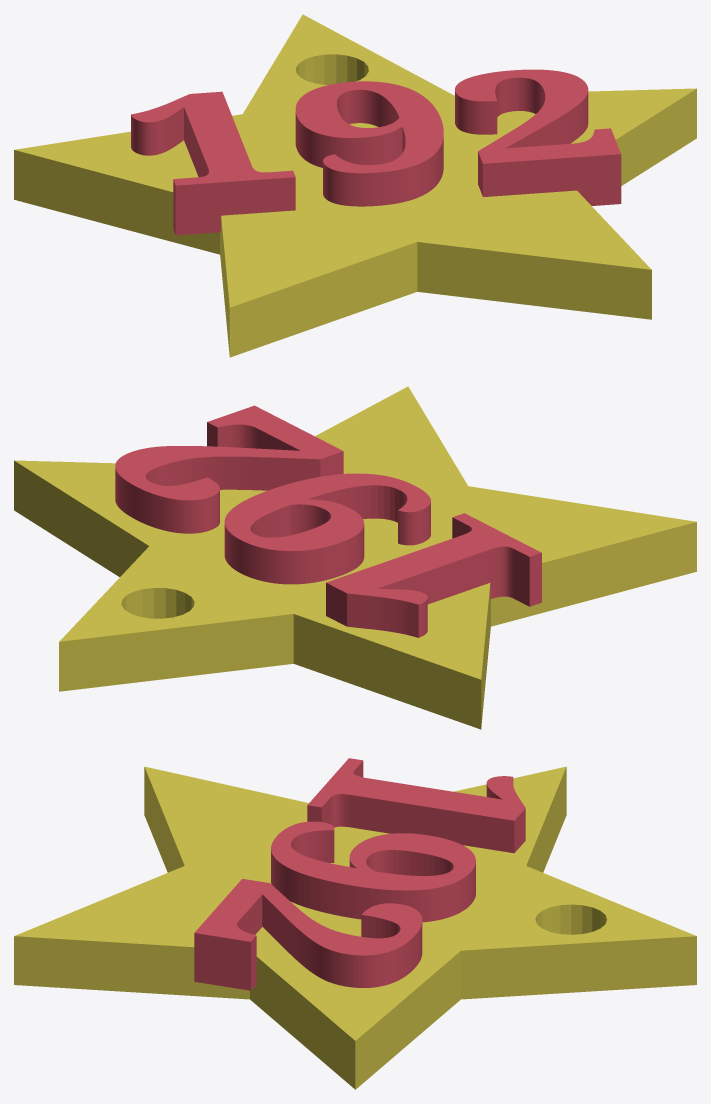
Rendered from Ingenious Jofo-Jaiks.glb.
3 renders of one model, top to bottom at view 1: azimuth 30°, elevation 25°; view 2: azimuth 150°, elevation 25°; view 3: azimuth 270°, elevation 25°, orthographic. The views are drawn at different scales.
Parts seen in each view (by area): view 1: Mesh_Mesh_head_geo.001_lambert2SG.001; view 2: Mesh_Mesh_head_geo.001_lambert2SG.001; view 3: Mesh_Mesh_head_geo.001_lambert2SG.001.
Part boxes in pixels (left/top/right/bottom): Mesh_Mesh_head_geo.001_lambert2SG.001: left=14, top=14, right=696, bottom=357; Mesh_Mesh_head_geo.001_lambert2SG.001: left=14, top=386, right=696, bottom=729; Mesh_Mesh_head_geo.001_lambert2SG.001: left=14, top=758, right=696, bottom=1089.
Size of the model in its own units: 36.18 by 5 by 38.04.
